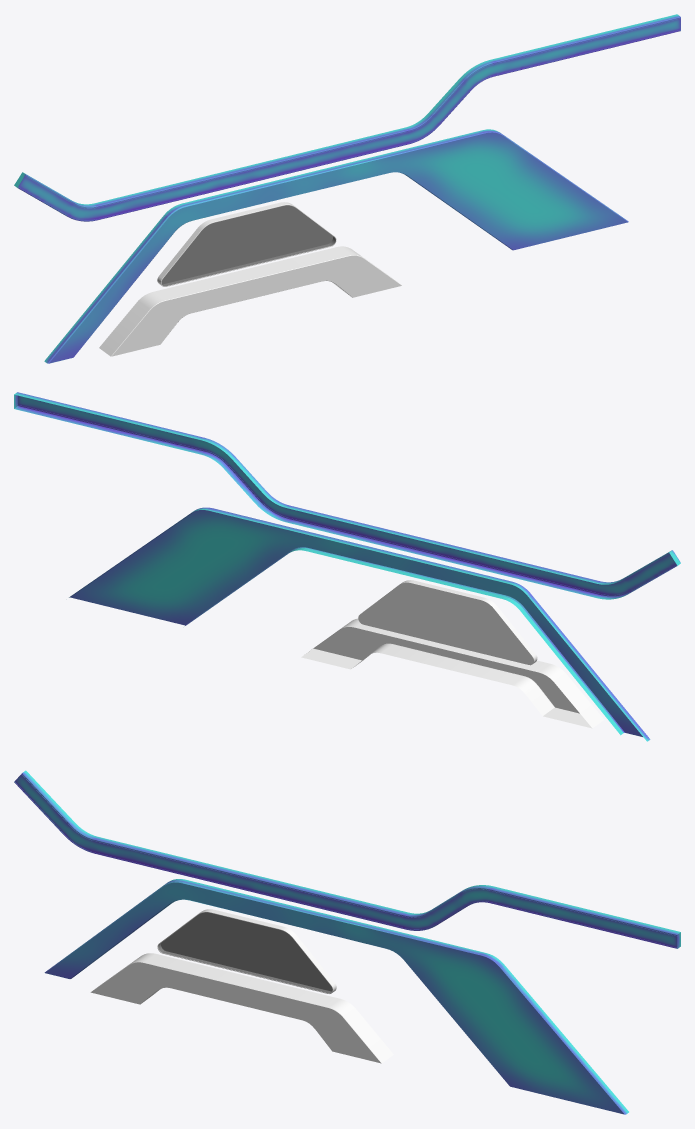
File: EC_DisplayWallPanel04.FBX
3 renders of one model, top to bottom at view 1: azimuth 30°, elevation 25°; view 2: azimuth 150°, elevation 25°; view 3: azimuth 330°, elevation 25°, orthographic.
Visible parts, largest first — view 1: EC_DisplayWallPanel04, EC_DisplayWallPanel04_Glass; view 2: EC_DisplayWallPanel04; view 3: EC_DisplayWallPanel04, EC_DisplayWallPanel04_Glass.
Boxes of the visible parts, x1=… form: EC_DisplayWallPanel04: x1=14, y1=14, x2=680, y2=363; EC_DisplayWallPanel04_Glass: x1=161, y1=205, x2=335, y2=286; EC_DisplayWallPanel04: x1=14, y1=392, x2=680, y2=741; EC_DisplayWallPanel04: x1=14, y1=770, x2=680, y2=1114; EC_DisplayWallPanel04_Glass: x1=158, y1=912, x2=332, y2=993.
Bounding box in the file's own units: 14344 × 4020 × 455.
